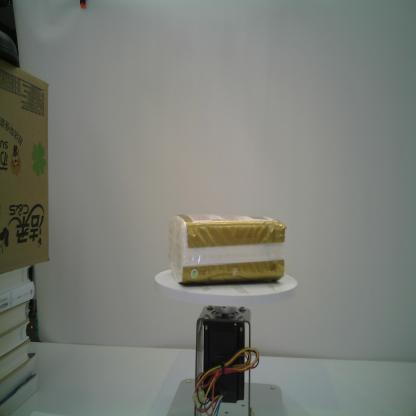Tissue: (166, 212, 288, 286)
